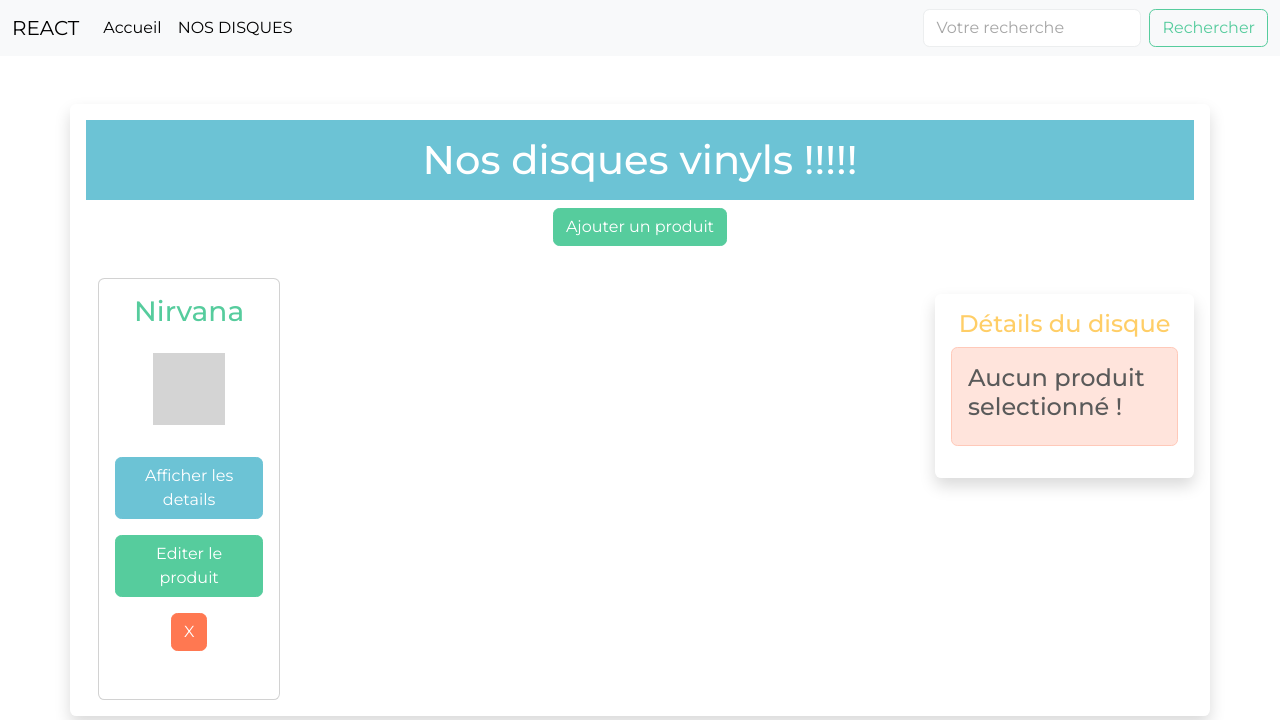
supprimer un vinyl après confirmation
The image size is (1280, 720).
Check: the heading "Nirvana" is shown, box [134, 294, 244, 328]
# Trigger event
Click the button "X".
click(189, 632)  # box [171, 613, 207, 651]
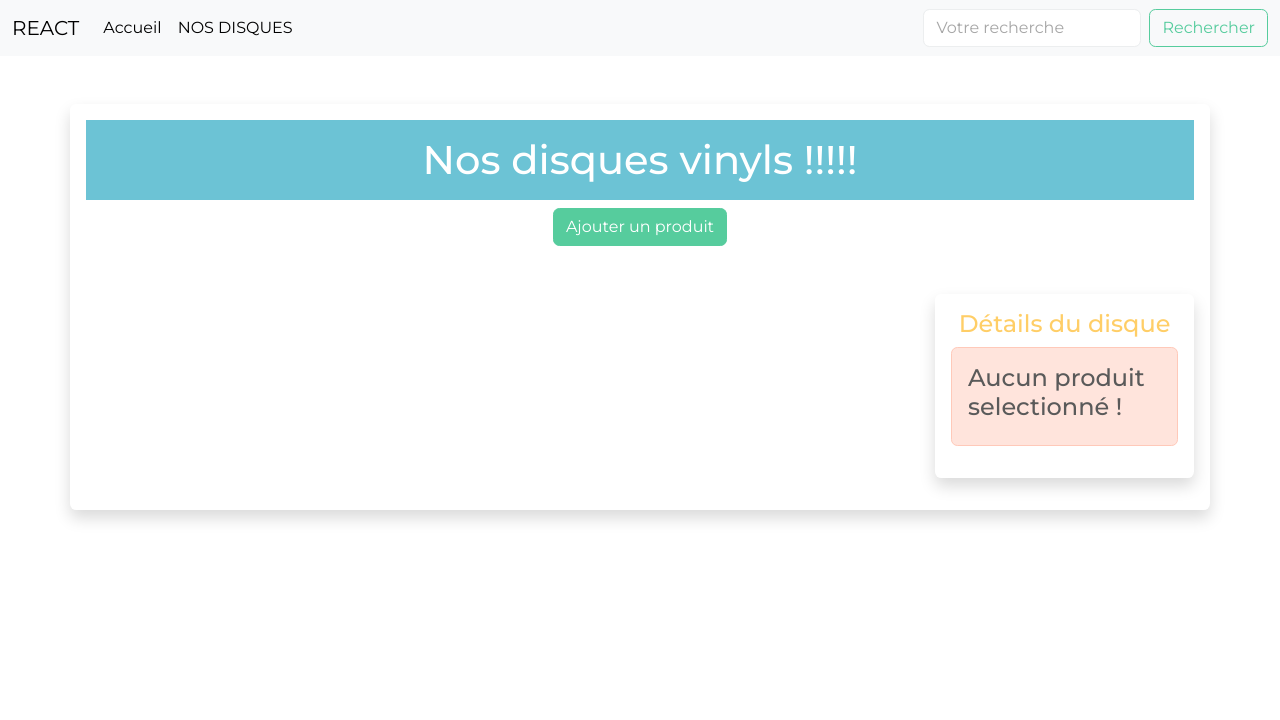
Check: the heading "Nirvana" is gone
